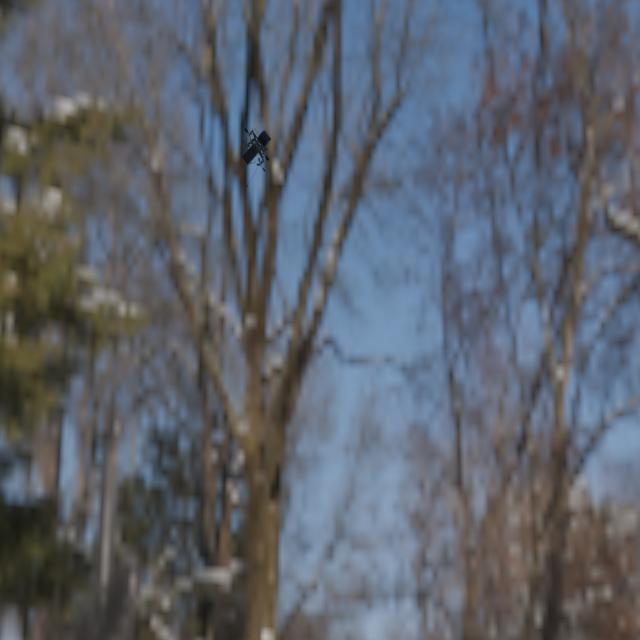drone: (242, 128, 271, 187)
